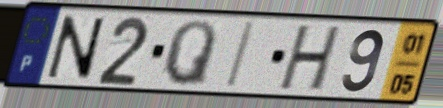2: (96, 12, 153, 89)
9: (341, 27, 385, 94)
H: (275, 23, 345, 94)
I: (222, 20, 259, 91)
N: (44, 13, 107, 83)
Q: (160, 18, 220, 89)
